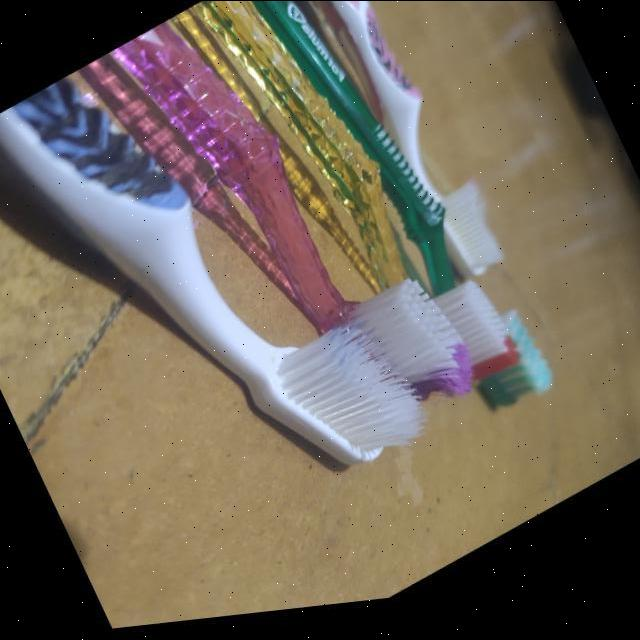toothbrush: (317, 192, 353, 640)
